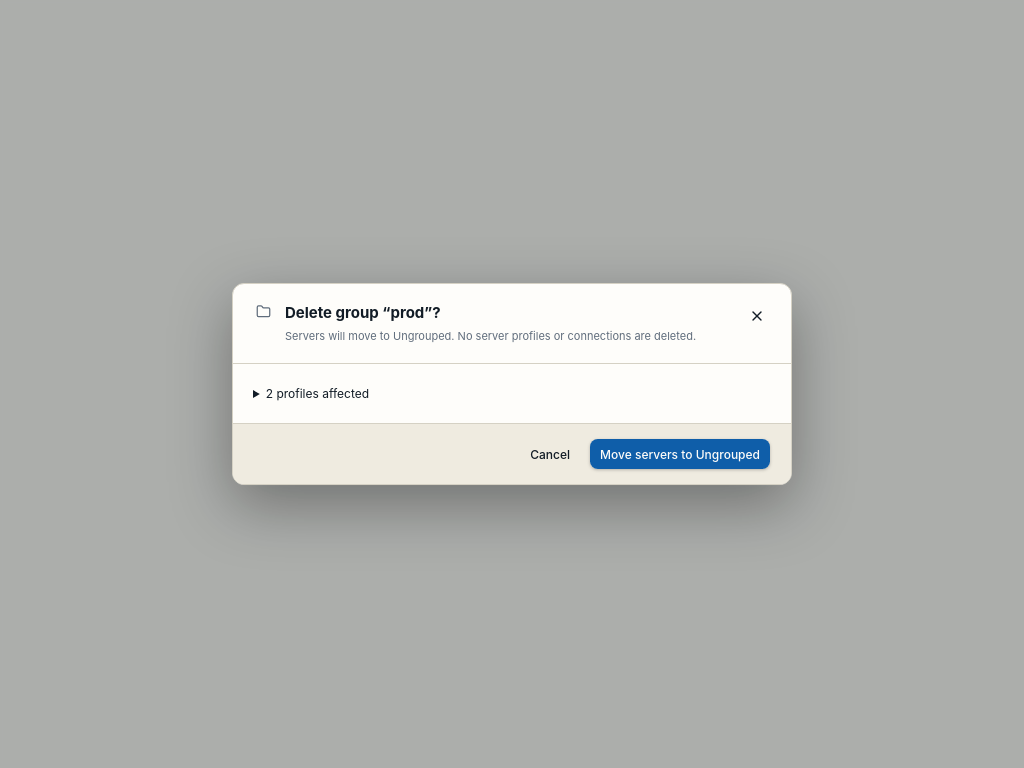
Test case: fleet operations › deletes a group by moving profiles and reports partial save failures
The width and height of the screenshot is (1024, 768).
What coordinates should you click on to do the following:
click the button "Move servers to Ungrouped"
I would click on:
 (680, 454)
Its box is x1=589 y1=438 x2=771 y2=470.
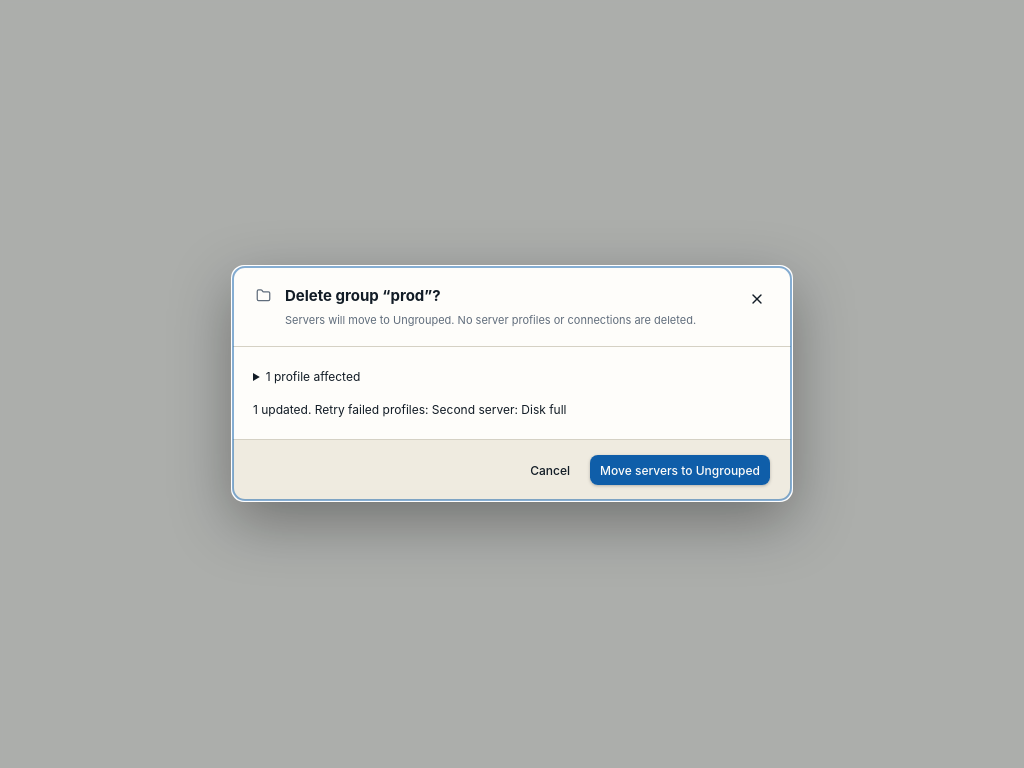
Now the text "1 updated. Retry failed profiles: Second server: Disk full" is shown, box x1=253 y1=402 x2=566 y2=418
